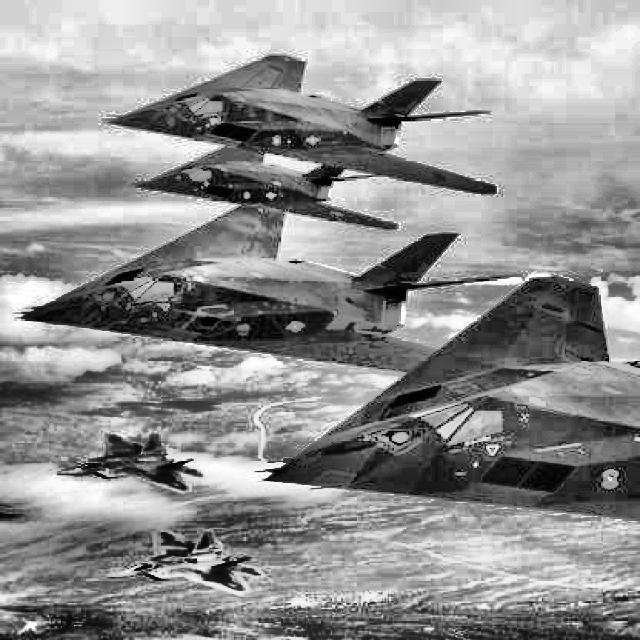F117: (253, 275, 639, 522), (12, 203, 525, 374), (101, 52, 497, 194), (133, 147, 398, 230)
F22: (105, 529, 264, 596), (56, 432, 206, 496)
